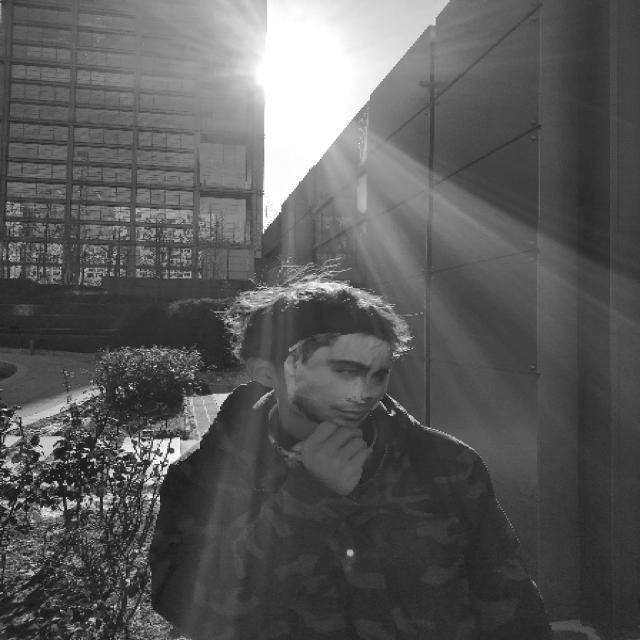fake: (204, 273, 418, 430)
